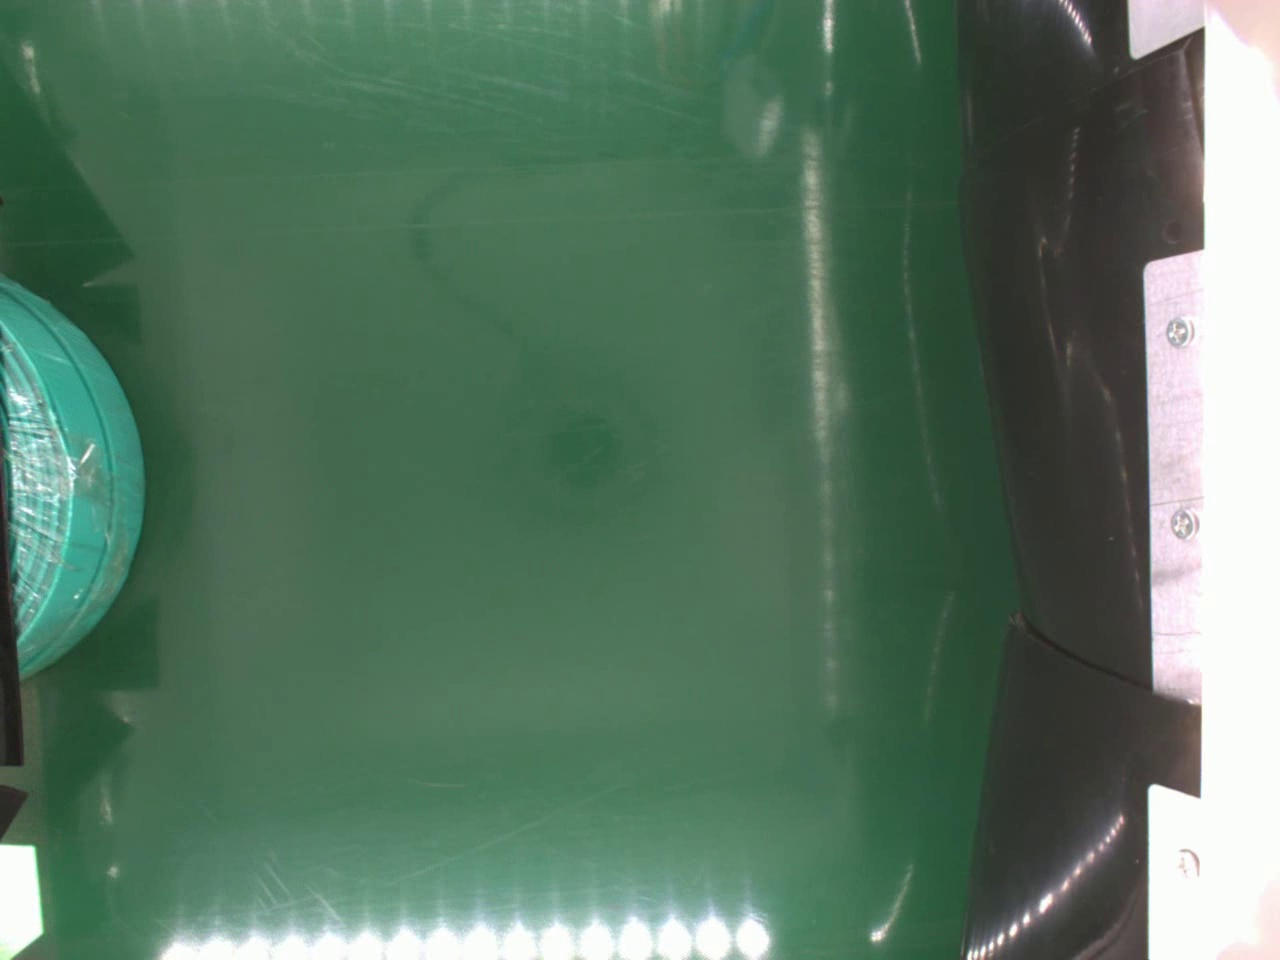green: (0, 269, 147, 683)
